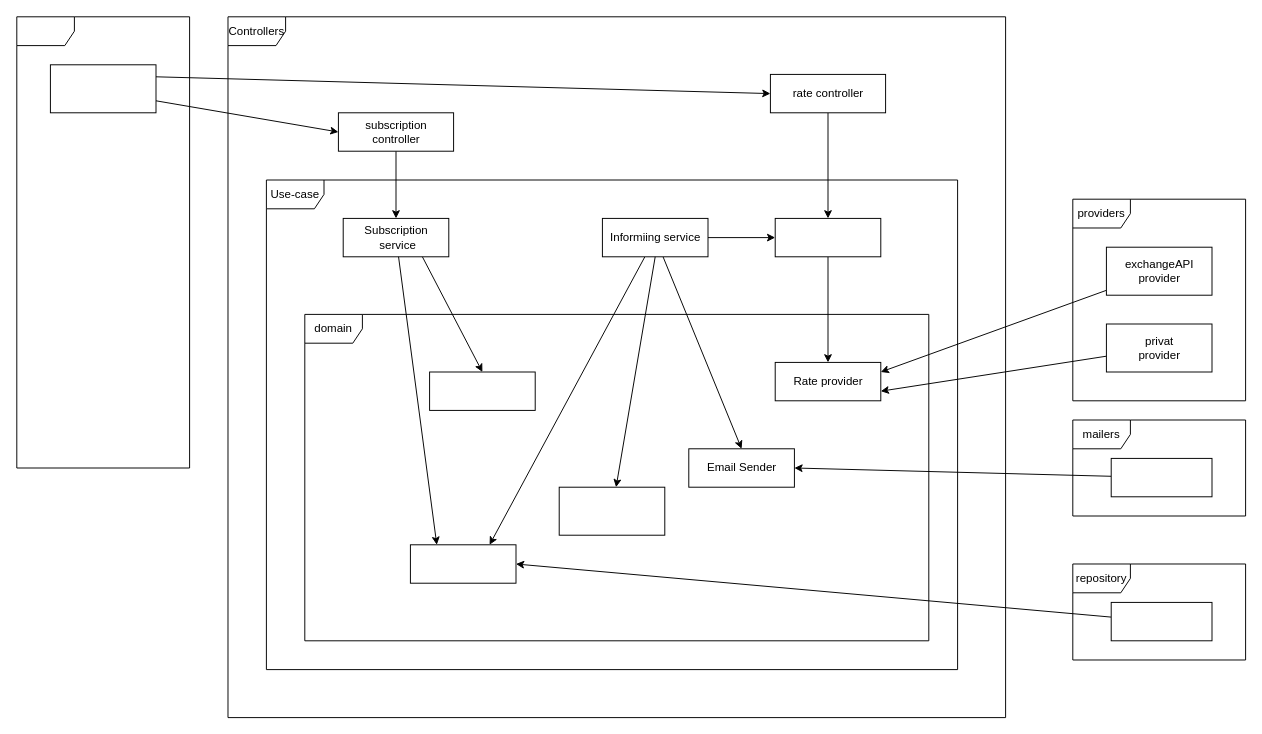
Image size: 1262x734. Some labels were removed from this diagram. The centre of each missing label's shape, as x and y in pixels:
"HTTP API" goes at [102,88].
"Rate service" goes at [827,237].
"Scheduler" goes at [611,510].
"smtp mailer" goes at [1161,477].
"Subscription" goes at [482,390].
"subscription postgres repository" goes at [1161,621].
"Subscription repository" goes at [462,563].
